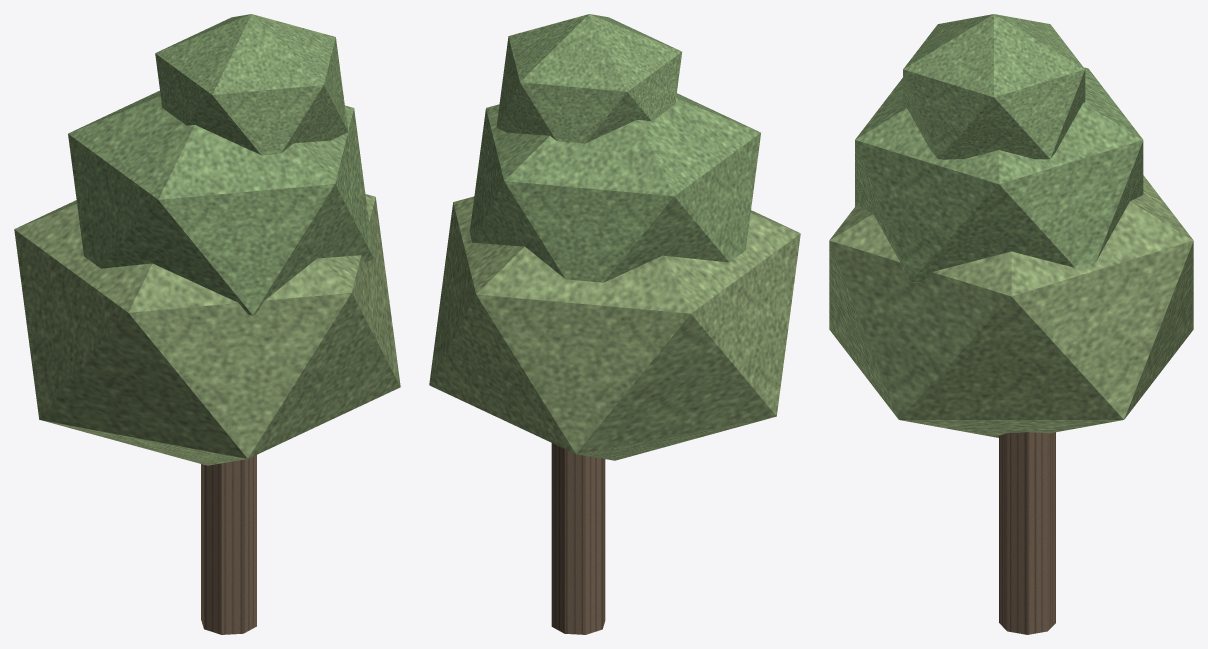
The model's file is tree_round.glb.
The picture shows the model from 3 angles, left to right: view 1: azimuth 30°, elevation 25°; view 2: azimuth 150°, elevation 25°; view 3: azimuth 270°, elevation 25°; orthographic projection. The views are drawn at different scales.
Visible parts, largest first — view 1: leaf_312, leaf_313, leaf_314, tree_trunk-col_311; view 2: leaf_312, leaf_313, leaf_314, tree_trunk-col_311; view 3: leaf_312, leaf_313, leaf_314, tree_trunk-col_311.
Part boxes in pixels (x1,y1,x2,y2): leaf_312: [14, 194, 400, 465]; leaf_313: [68, 90, 373, 315]; leaf_314: [155, 14, 348, 155]; tree_trunk-col_311: [201, 455, 256, 634]; leaf_312: [429, 196, 800, 460]; leaf_313: [469, 93, 760, 282]; leaf_314: [496, 14, 682, 143]; tree_trunk-col_311: [551, 443, 605, 634]; leaf_312: [829, 175, 1193, 437]; leaf_313: [855, 67, 1143, 282]; leaf_314: [903, 14, 1085, 159]; tree_trunk-col_311: [999, 432, 1055, 634].
Size of the model in its own units: 2.15 by 3.78 by 2.04.
Materials: 3 (3 with a texture image).
